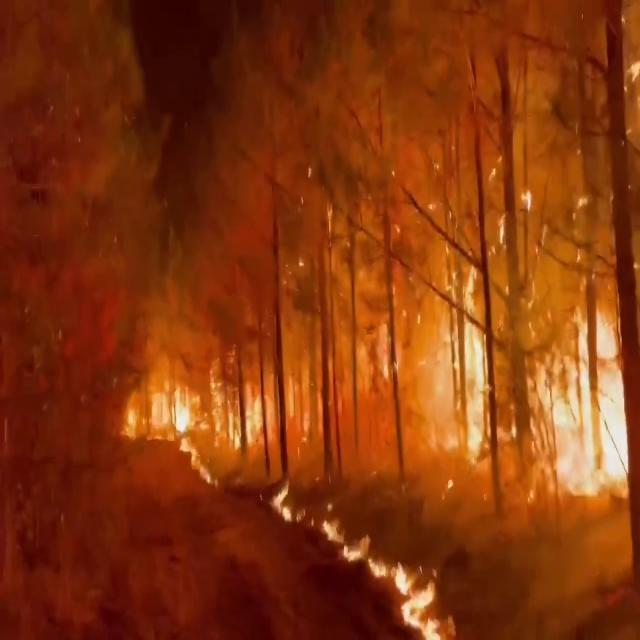Fire: (394, 267, 640, 472), (121, 352, 217, 456), (356, 538, 446, 640), (322, 511, 364, 570), (273, 472, 302, 530)
Smoke: (112, 0, 640, 347)
